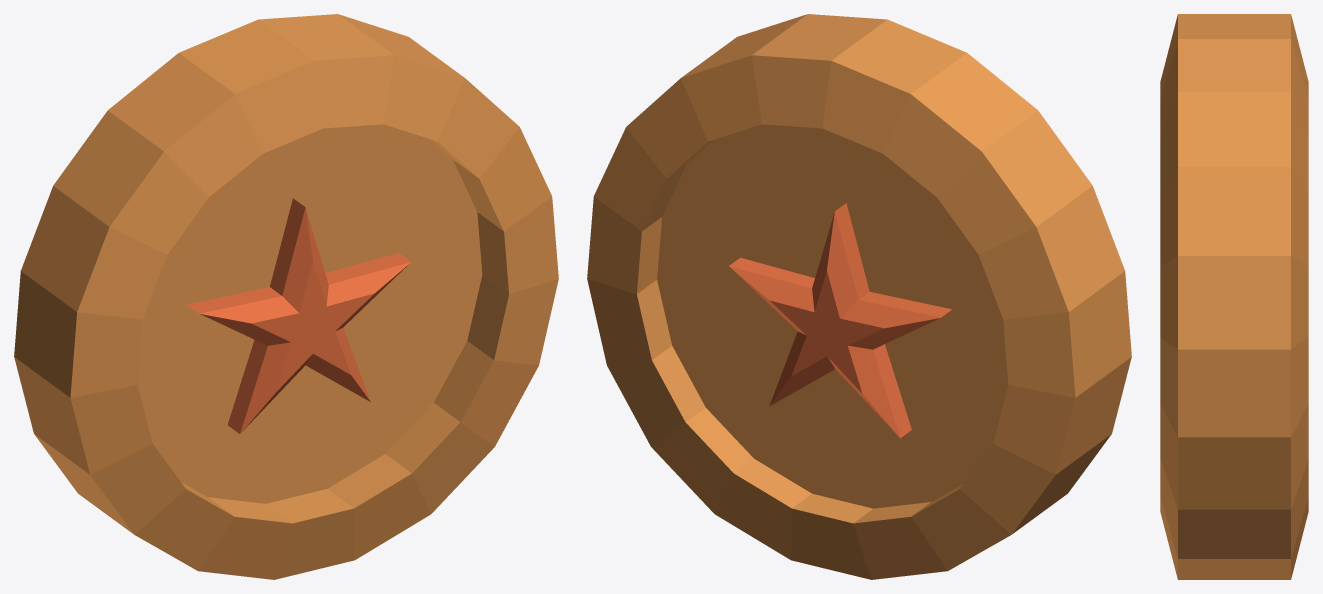
Rendered from moneda.fbx.
3 views of the same model, side by side, from view 1: azimuth 30°, elevation 25°; view 2: azimuth 150°, elevation 25°; view 3: azimuth 270°, elevation 25° (orthographic).
Parts seen in each view (by area): view 1: Cilindro, Cilindro.001; view 2: Cilindro, Cilindro.001; view 3: Cilindro.
Boxes of the visible parts, bbox=[...] form: Cilindro: bbox=[14, 14, 558, 579]; Cilindro.001: bbox=[187, 198, 410, 433]; Cilindro: bbox=[587, 14, 1131, 579]; Cilindro.001: bbox=[729, 203, 951, 438]; Cilindro: bbox=[1160, 14, 1308, 579].
Size of the model in its own units: 47.91 by 47.75 by 12.54.
